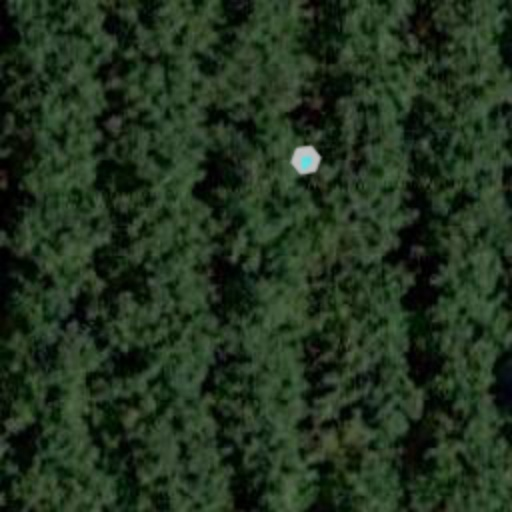hexagon: (288, 142, 324, 178)
